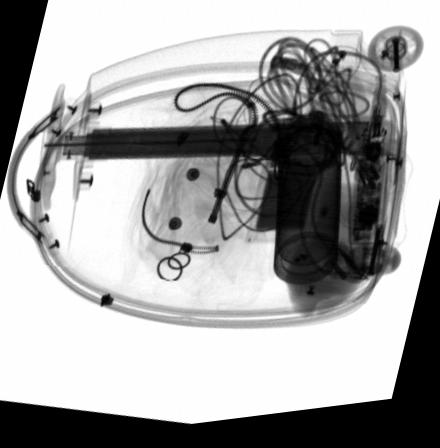Powerbank: (245, 127, 344, 254)
